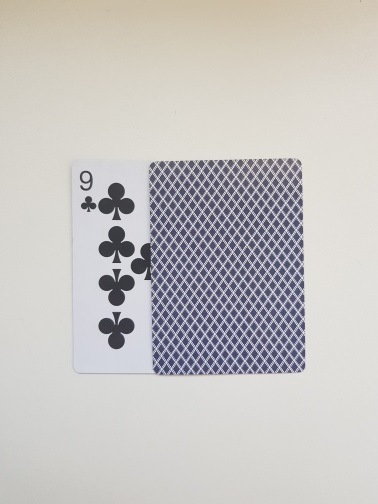nine: (70, 159, 232, 375)
